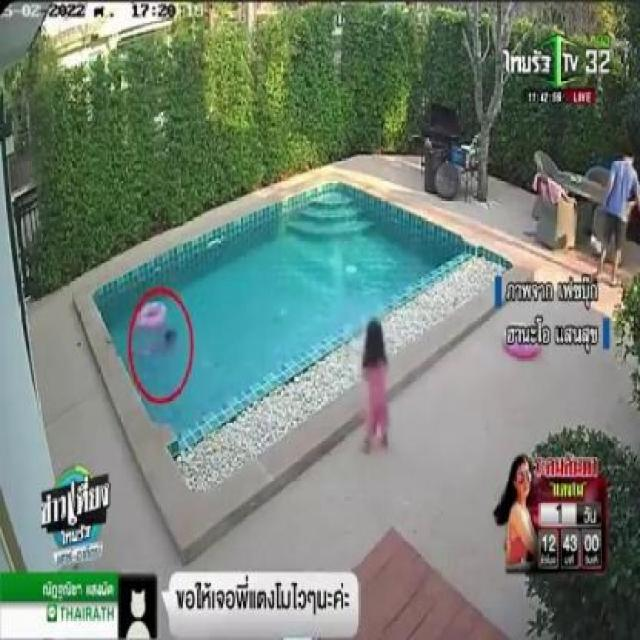drowning: (135, 328, 182, 362)
